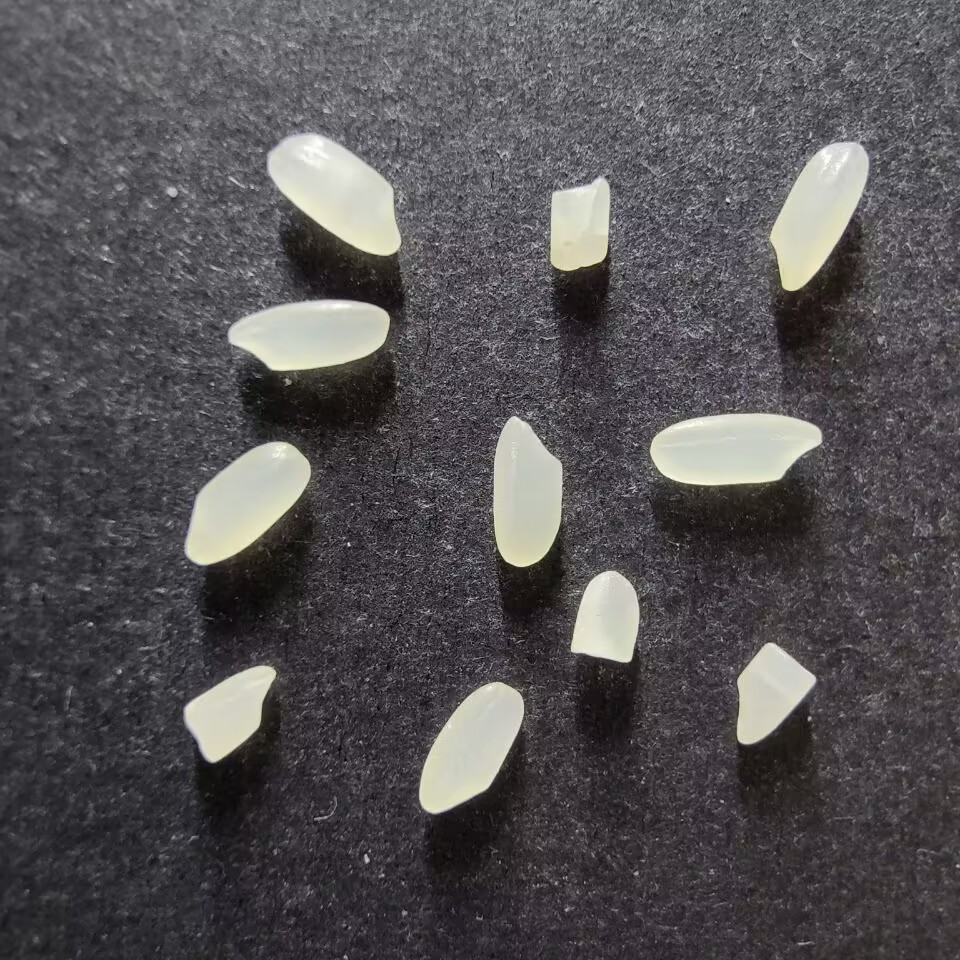broken: (183, 665, 277, 762), (734, 641, 817, 744), (570, 570, 639, 664), (548, 177, 610, 272)
rice: (267, 134, 402, 256), (184, 441, 310, 565), (769, 141, 869, 291), (417, 681, 525, 814), (649, 412, 822, 486), (227, 299, 389, 371), (492, 416, 563, 566)
